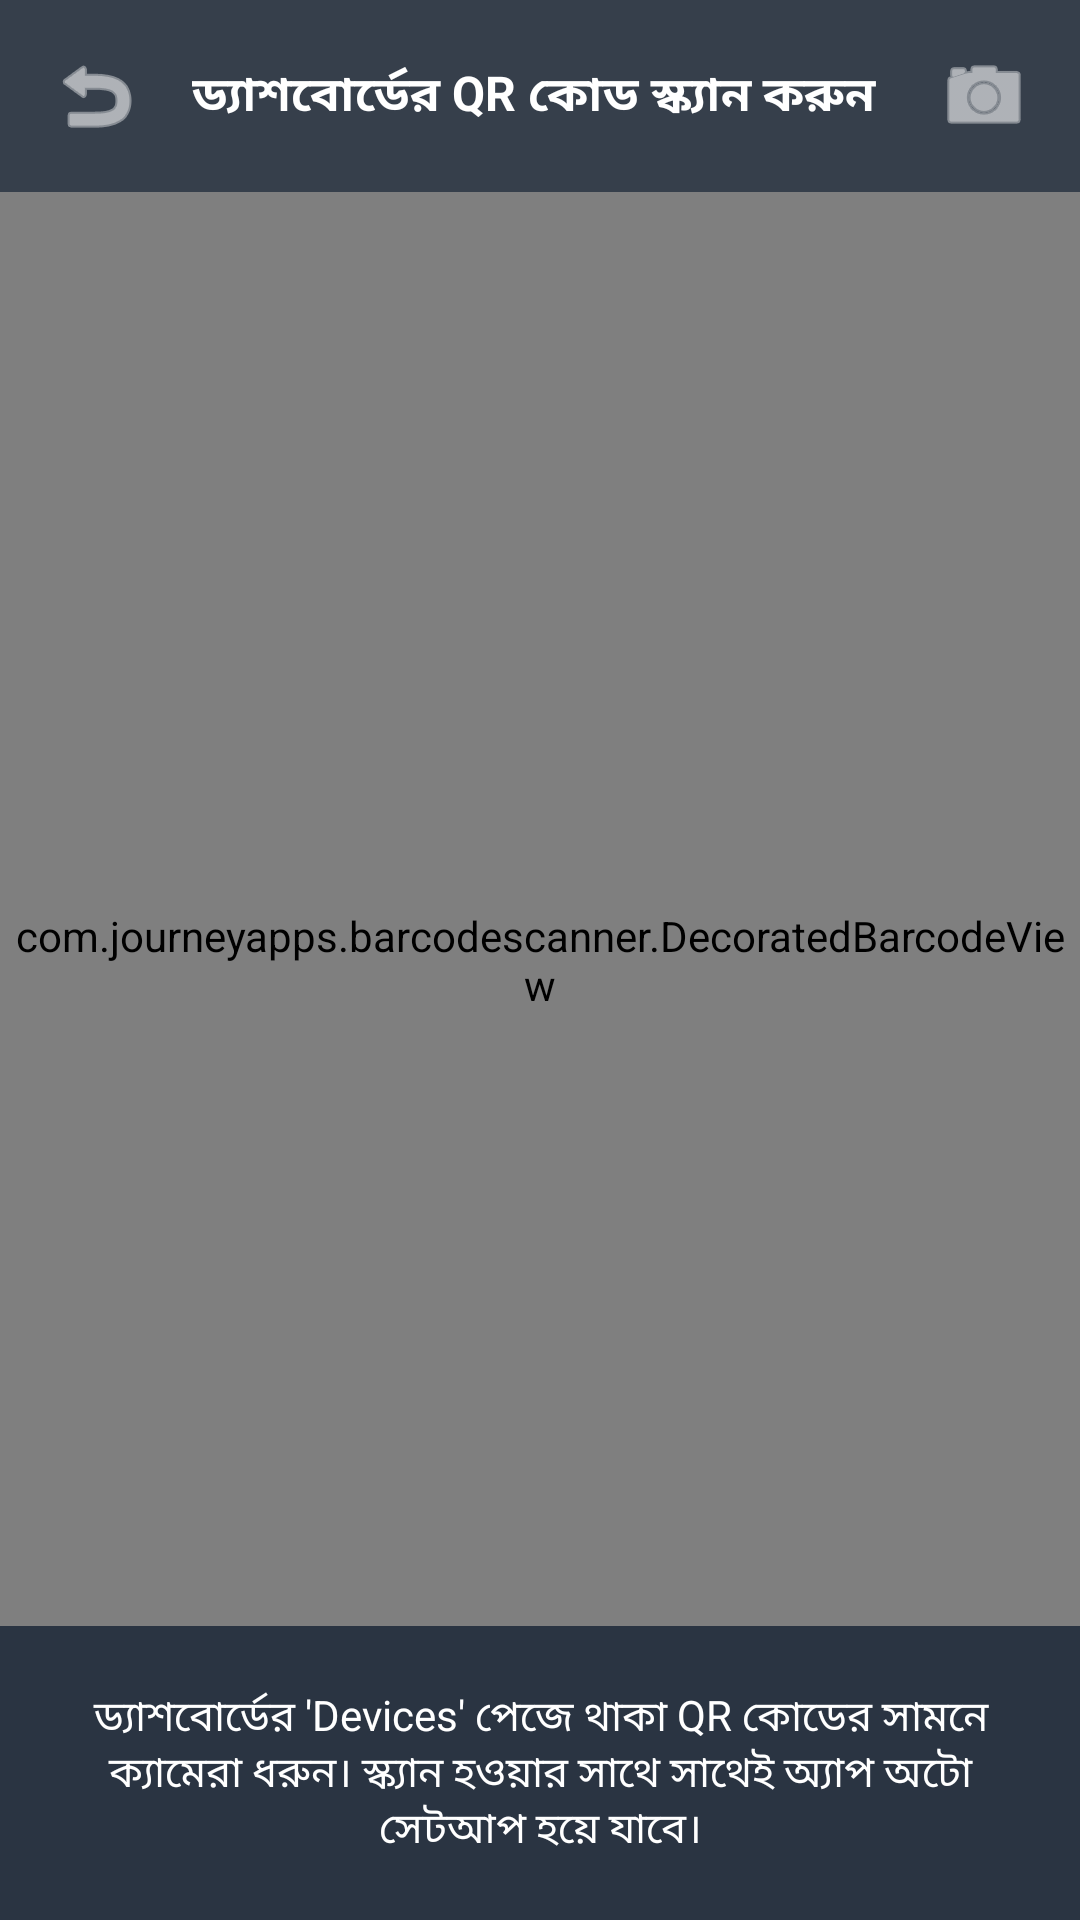

Point at icon controls on the screen. Image size 1080 x 1920, points as (x,y).
camera: (984,94)
revert: (97,96)
